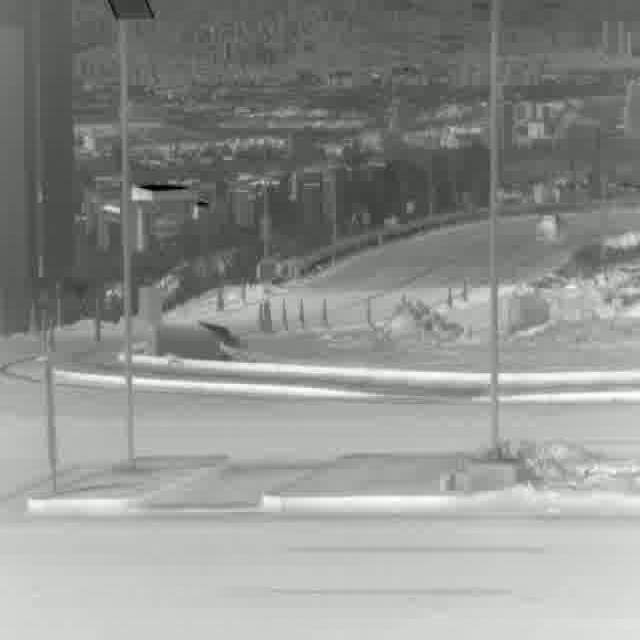Car: (538, 212, 562, 245)
